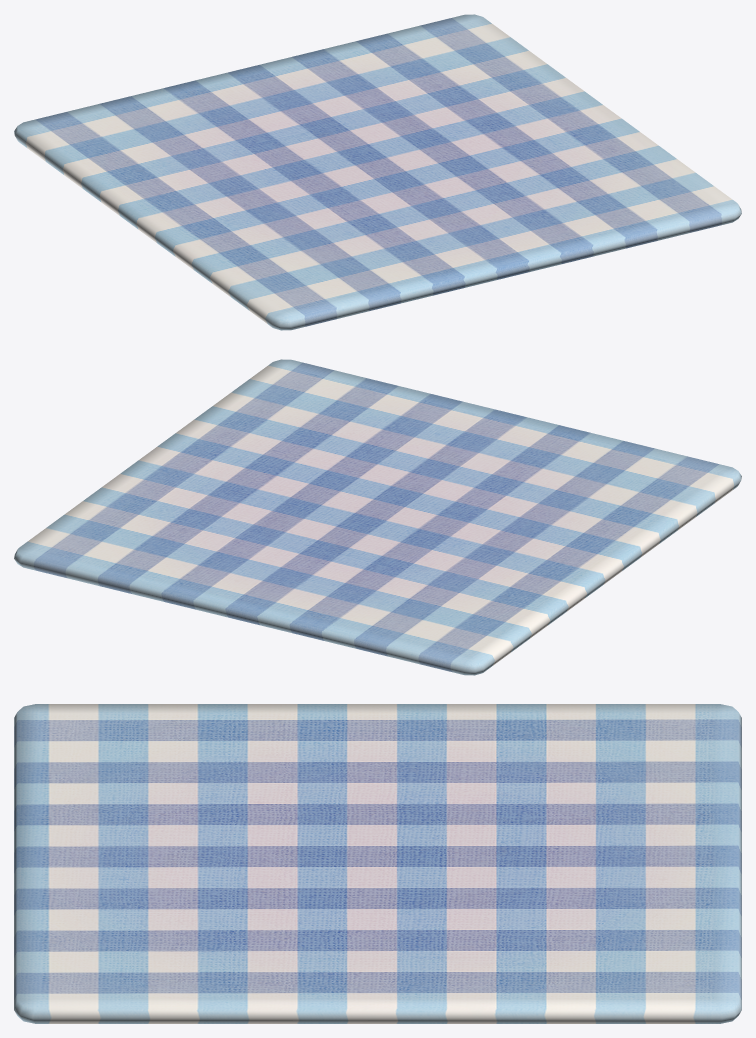
Rendered from SE_Blanket_01.fbx.
3 views of the same model, one above another, from view 1: azimuth 30°, elevation 25°; view 2: azimuth 150°, elevation 25°; view 3: azimuth 270°, elevation 25° (orthographic). The views are drawn at different scales.
Parts seen in each view (by area): view 1: SE_Blanket_01; view 2: SE_Blanket_01; view 3: SE_Blanket_01.
Boxes of the visible parts, bbox=[...] form: SE_Blanket_01: bbox=[14, 14, 741, 330]; SE_Blanket_01: bbox=[14, 359, 741, 675]; SE_Blanket_01: bbox=[14, 704, 741, 1023].
Size of the model in its own units: 5.58 by 0.1299 by 5.58.
